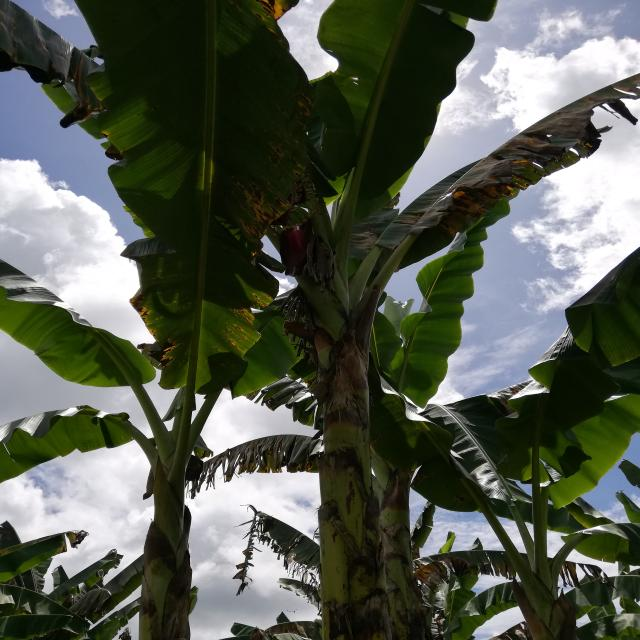Banana-plant: (269, 208, 413, 640), (116, 381, 216, 639)
